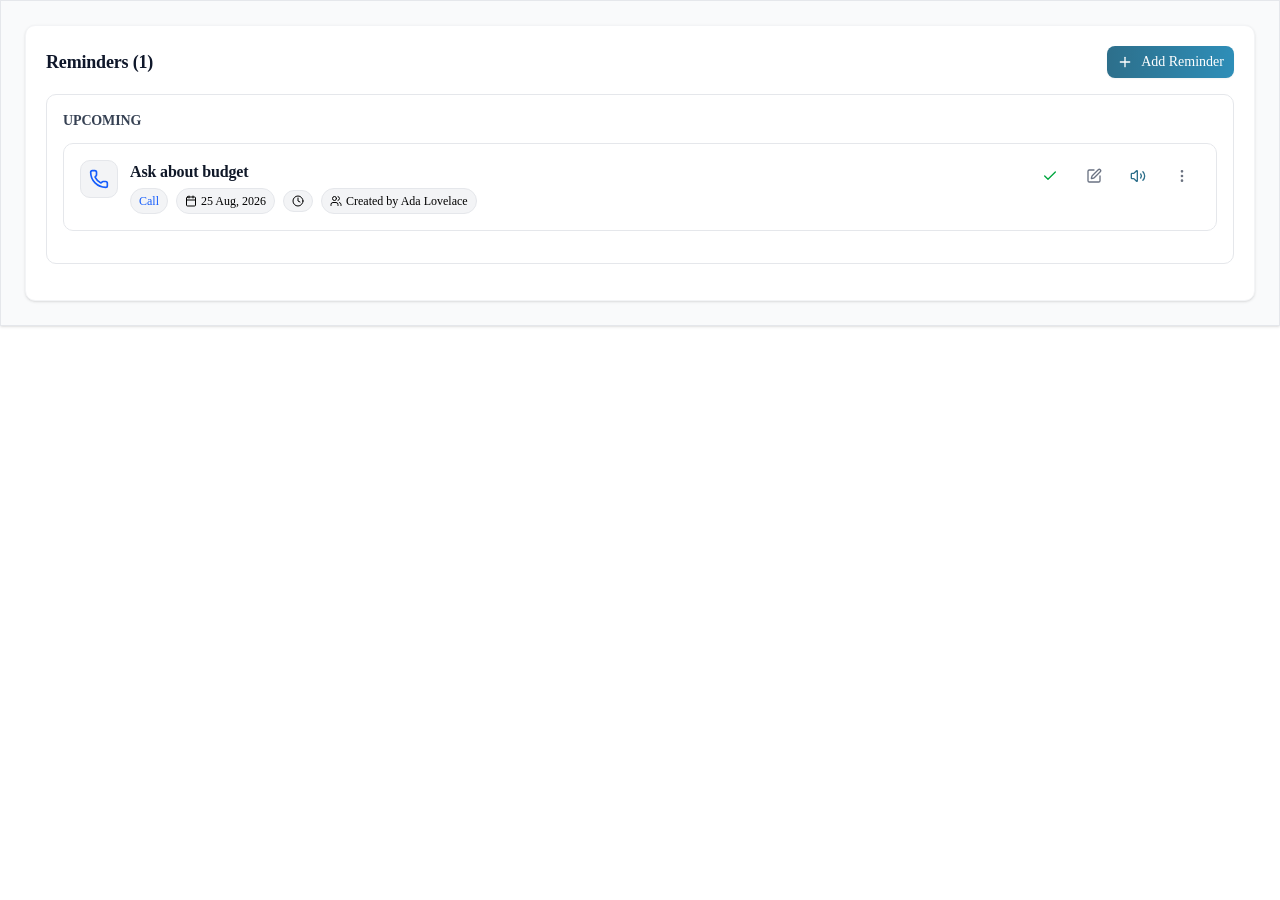
it: RemindersTab › removes a deleted reminder from the list without waiting for a refetch
The image size is (1280, 900).
Expected: the heading "Ask about budget" is shown, top-left (130, 163), bottom-right (248, 180)
Click the button titled "More actions" at (1182, 176), box top-left (1164, 160), bottom-right (1200, 192)
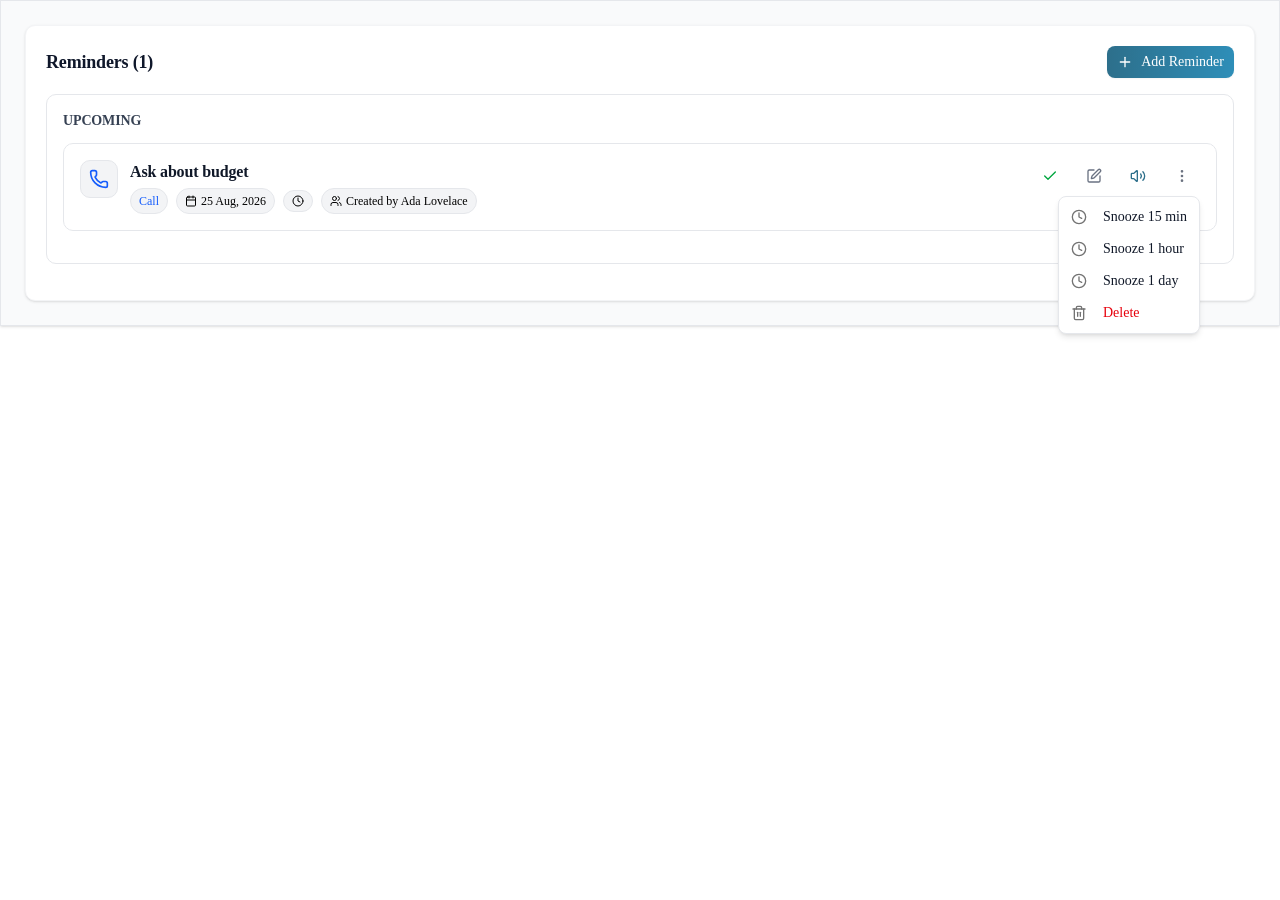
Click the menu item "Delete" at (1105, 313), box top-left (1071, 305), bottom-right (1140, 321)
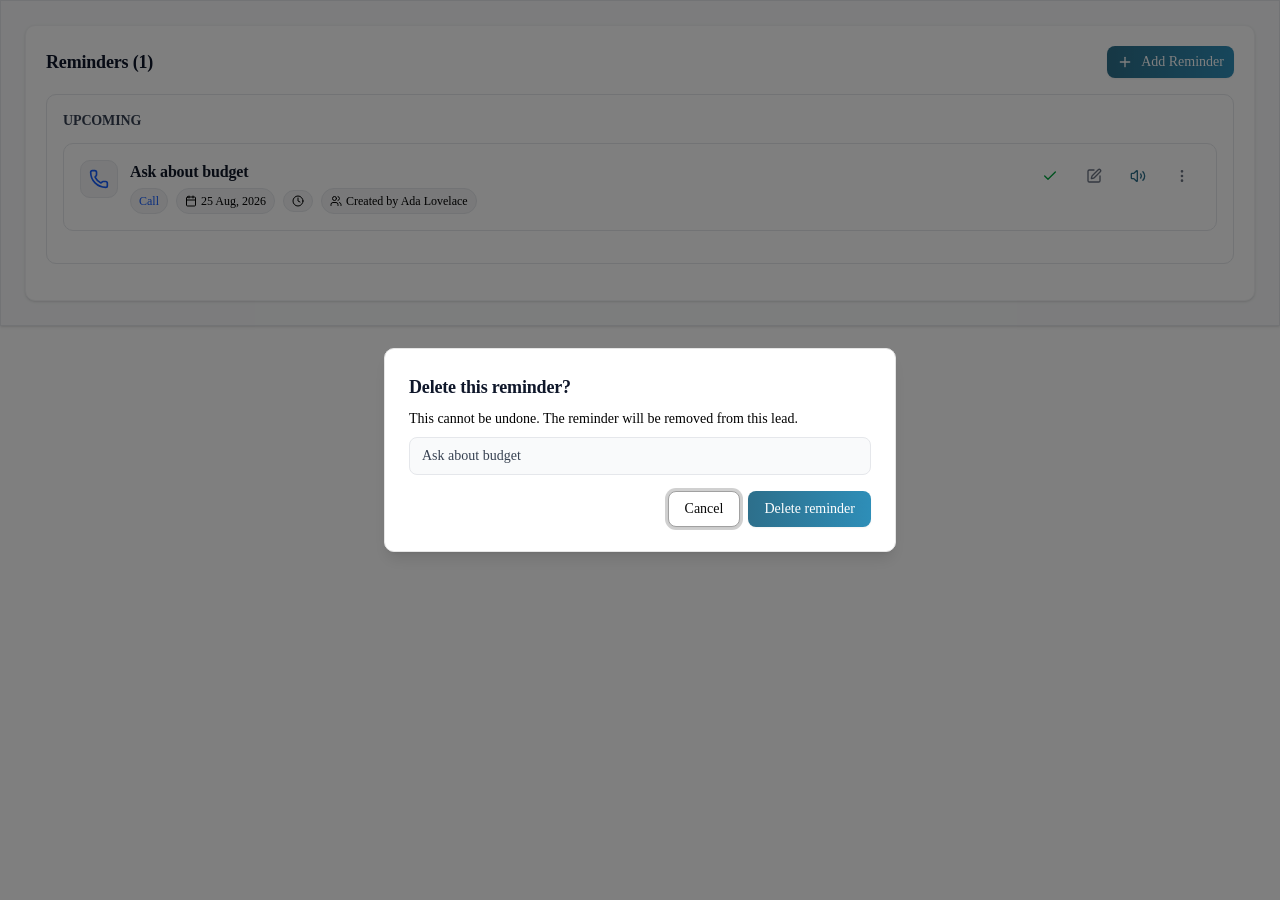
Click the button "Delete reminder" at (810, 509), box top-left (748, 491), bottom-right (871, 527)
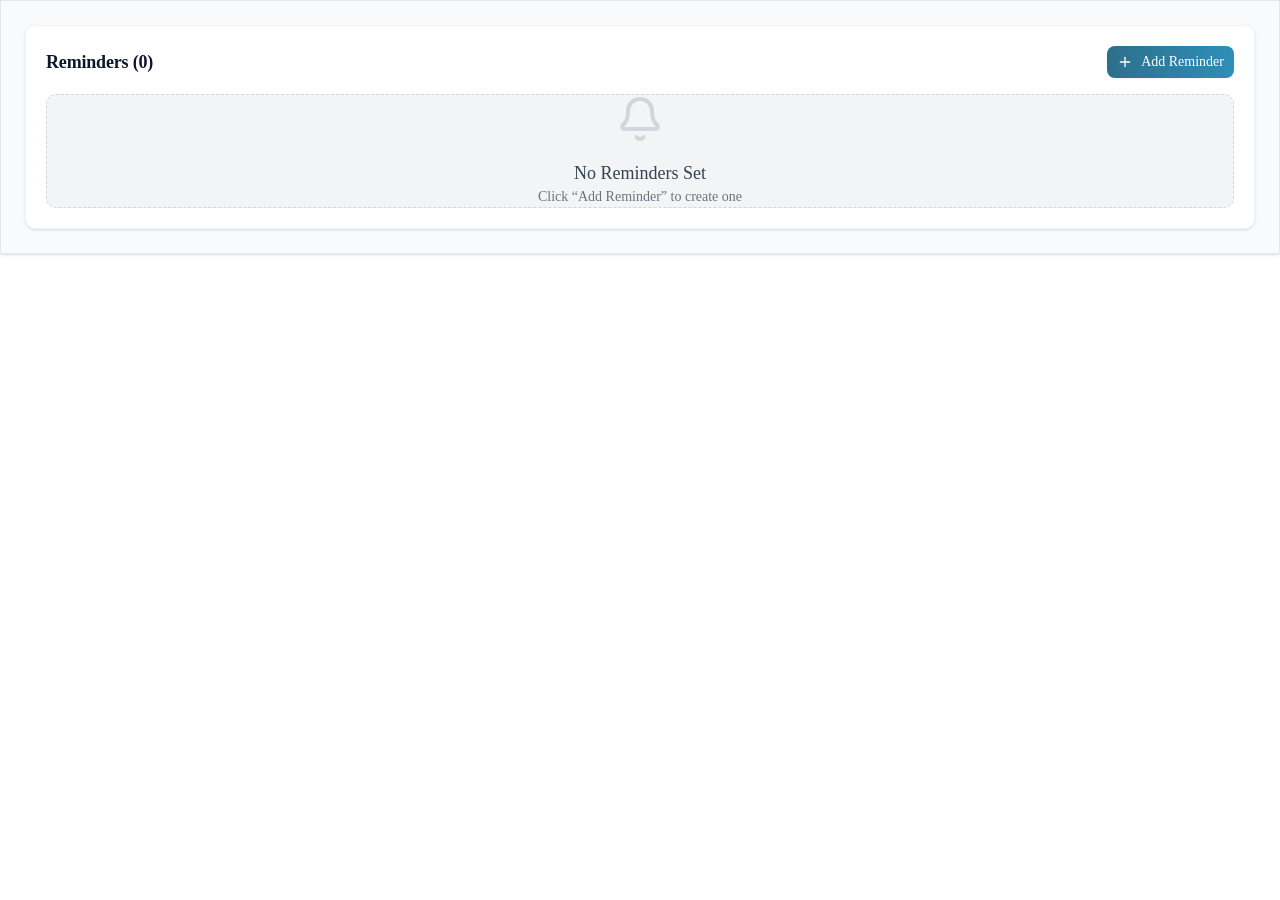
Now the heading "Ask about budget" is gone
Now the text "No Reminders Set" is shown, box top-left (574, 163), bottom-right (706, 183)
